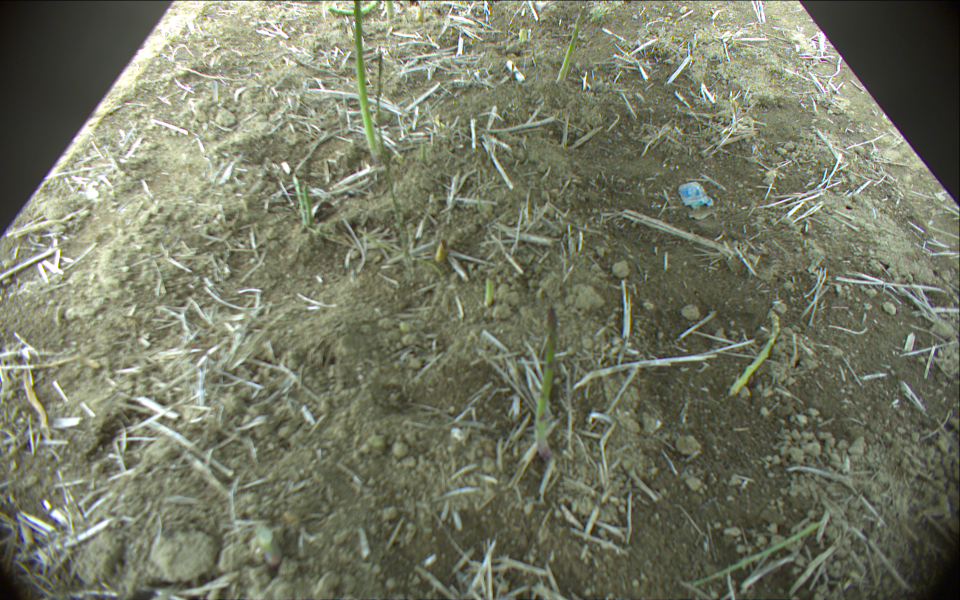aspa: (731, 309, 781, 395), (354, 1, 380, 155), (536, 306, 558, 468), (558, 8, 586, 85), (301, 180, 320, 230), (328, 1, 378, 18), (289, 171, 305, 219), (485, 272, 497, 306), (385, 1, 396, 24)
